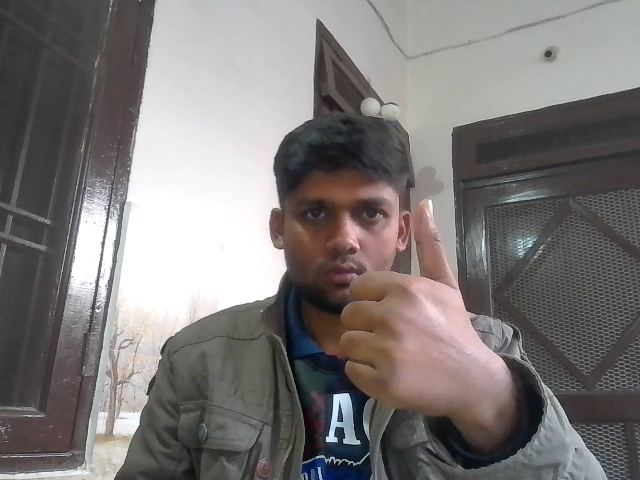BestOfLuck: (339, 195, 485, 425)
